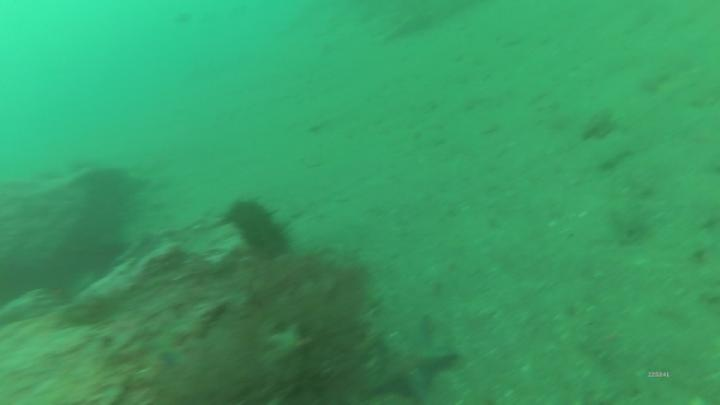echinus: (230, 198, 286, 253)
starfish: (381, 320, 452, 401)
